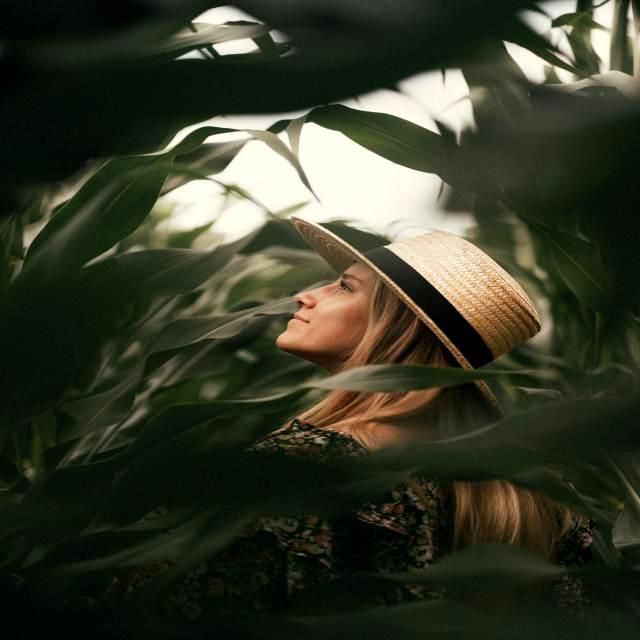no_hard_hat: (290, 216, 540, 370)
person: (277, 216, 539, 455)
